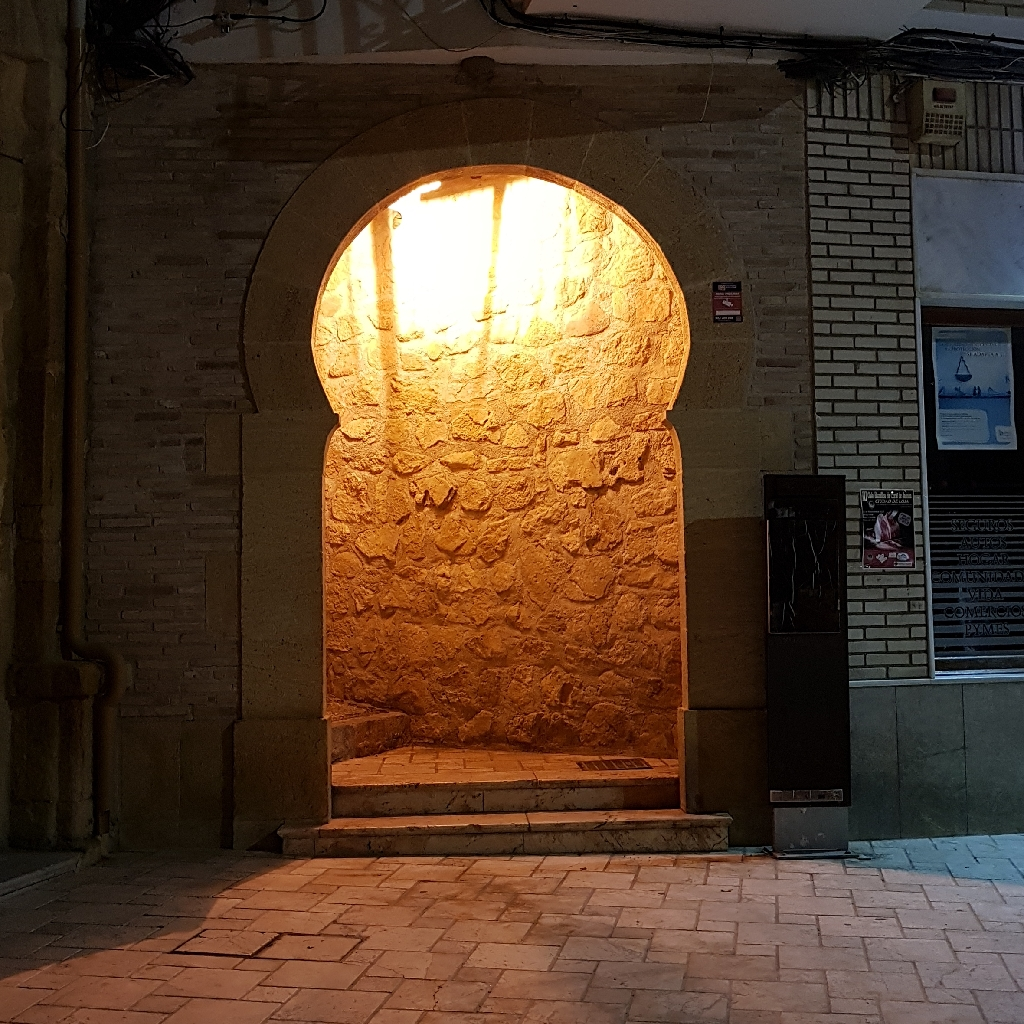arco-herradura: (293, 141, 702, 469)
